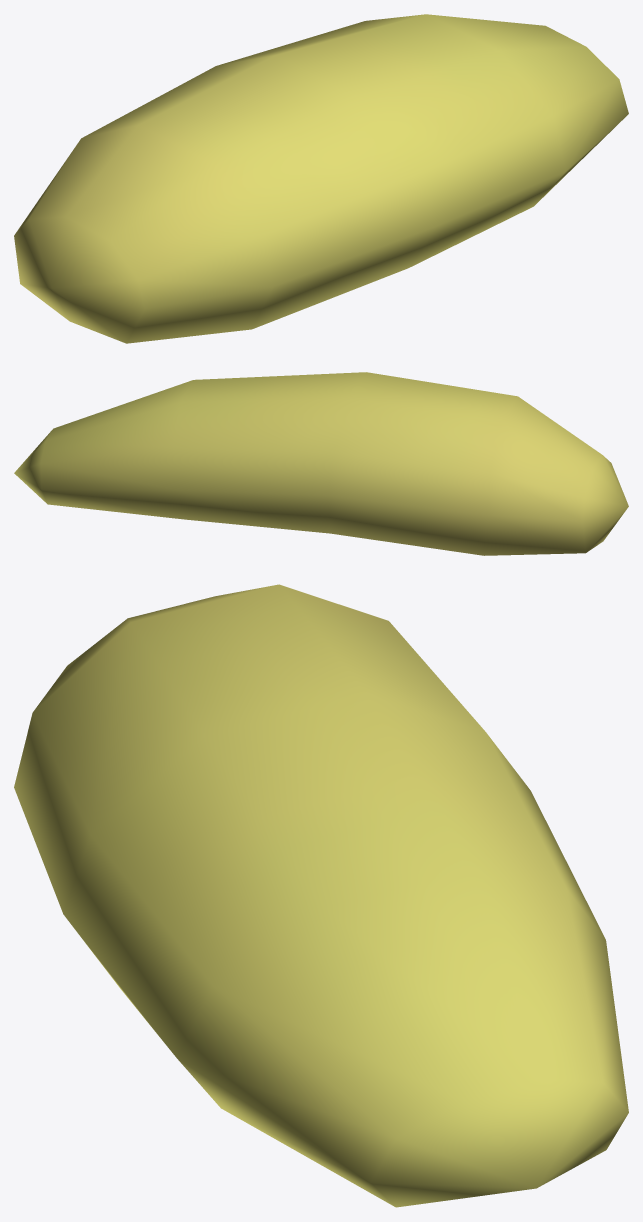
Rendered from PC_Woman_Eyebrow005_R.glb.
3 views of the same model, one above another, from view 1: azimuth 30°, elevation 25°; view 2: azimuth 150°, elevation 25°; view 3: azimuth 270°, elevation 25° (orthographic). The views are drawn at different scales.
Parts seen in each view (by area): view 1: PC_Woman_Eyebrow005_R_mesh; view 2: PC_Woman_Eyebrow005_R_mesh; view 3: PC_Woman_Eyebrow005_R_mesh.
Boxes of the visible parts, box(x1,y1,x2,y2) form: PC_Woman_Eyebrow005_R_mesh: box(14, 14, 628, 343); PC_Woman_Eyebrow005_R_mesh: box(14, 372, 628, 555); PC_Woman_Eyebrow005_R_mesh: box(14, 584, 628, 1207).
Bounding box in the file's own units: 0.1496 × 0.0376 × 0.0793.
1 material, 1 textured.
